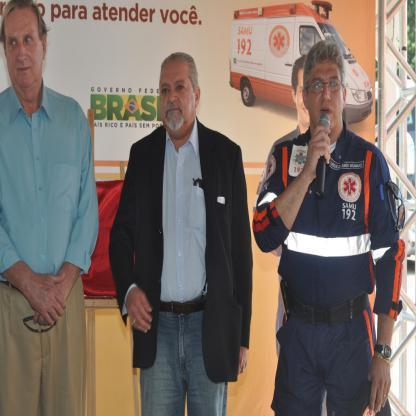Ambulance - v1 Ambulance last generate: (229, 0, 375, 125)
